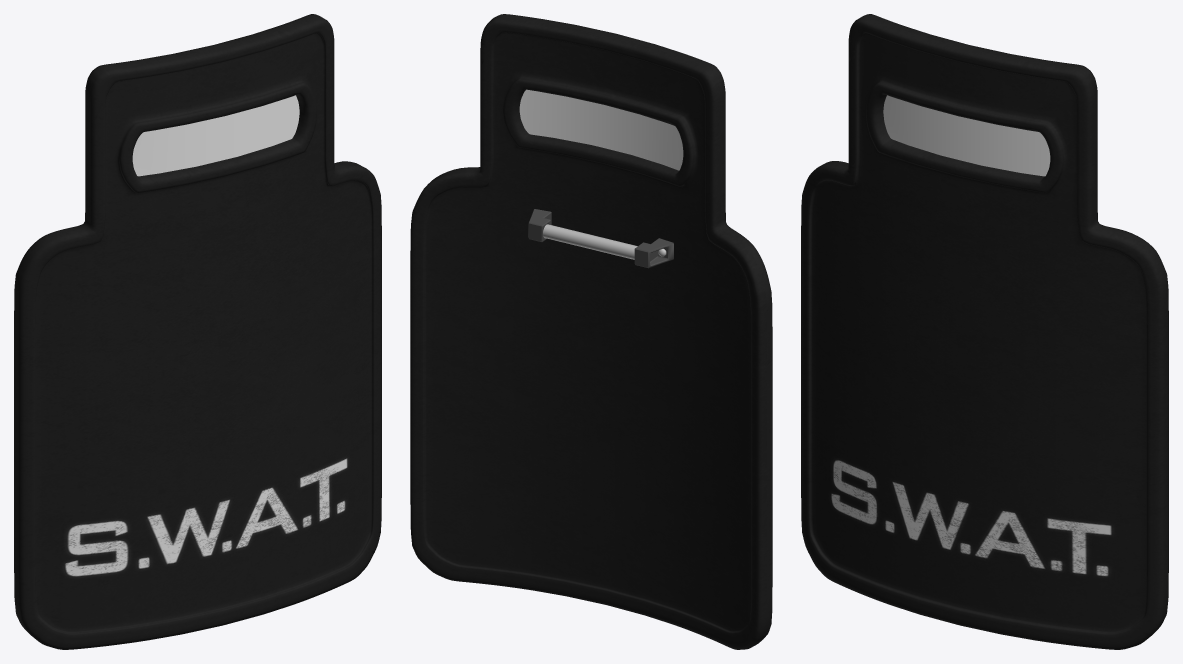
File: escudo.fbx
3 views of the same model, side by side, from view 1: azimuth 30°, elevation 25°; view 2: azimuth 150°, elevation 25°; view 3: azimuth 330°, elevation 25° (orthographic).
Parts seen in each view (by area): view 1: Plane001; view 2: Plane001; view 3: Plane001.
Part boxes in pixels (x1,y1,x2,y2): Plane001: (14,14,381,649); Plane001: (410,14,772,649); Plane001: (801,14,1168,649).
Bounding box in the file's own units: 101 × 153 × 16.63.
Materials: 4 (1 with a texture image).
